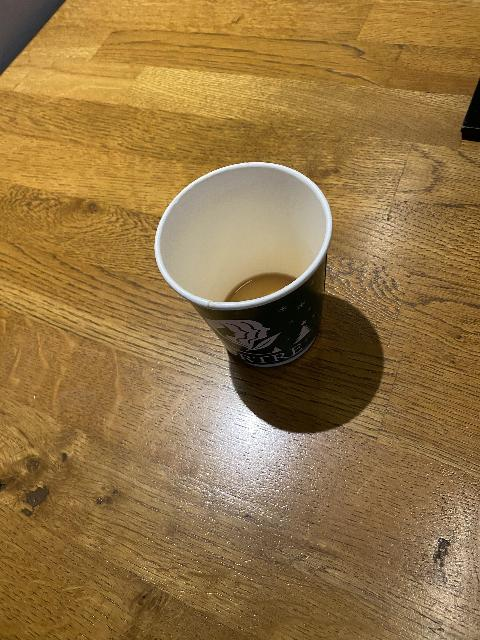Kagit: (148, 163, 340, 367)
